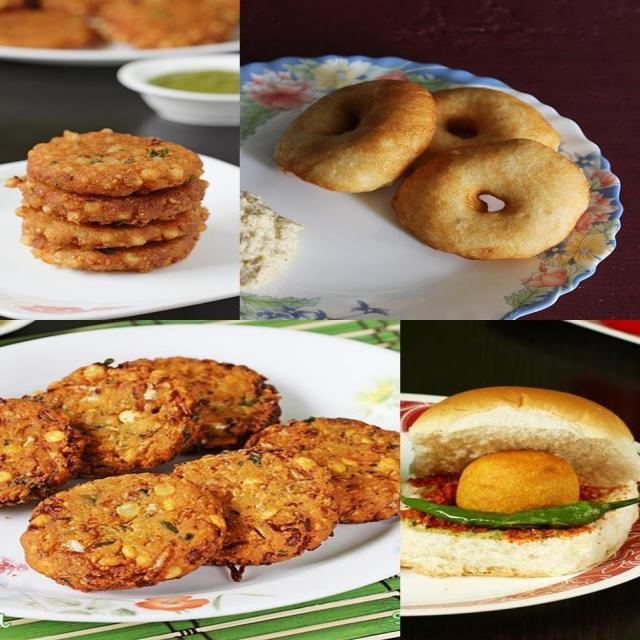VADA: (0, 355, 399, 596), (275, 76, 590, 262), (16, 129, 210, 275)
